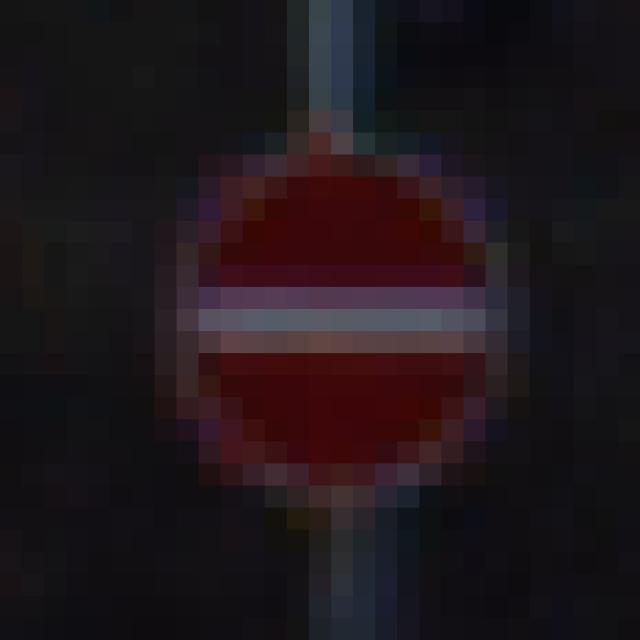No Entry: (134, 111, 531, 531)
